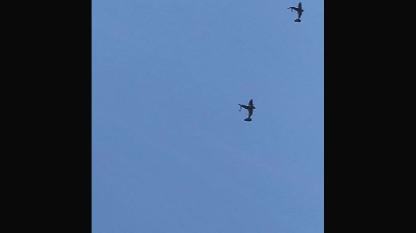Tornado: (237, 99, 256, 122), (287, 2, 304, 23)
